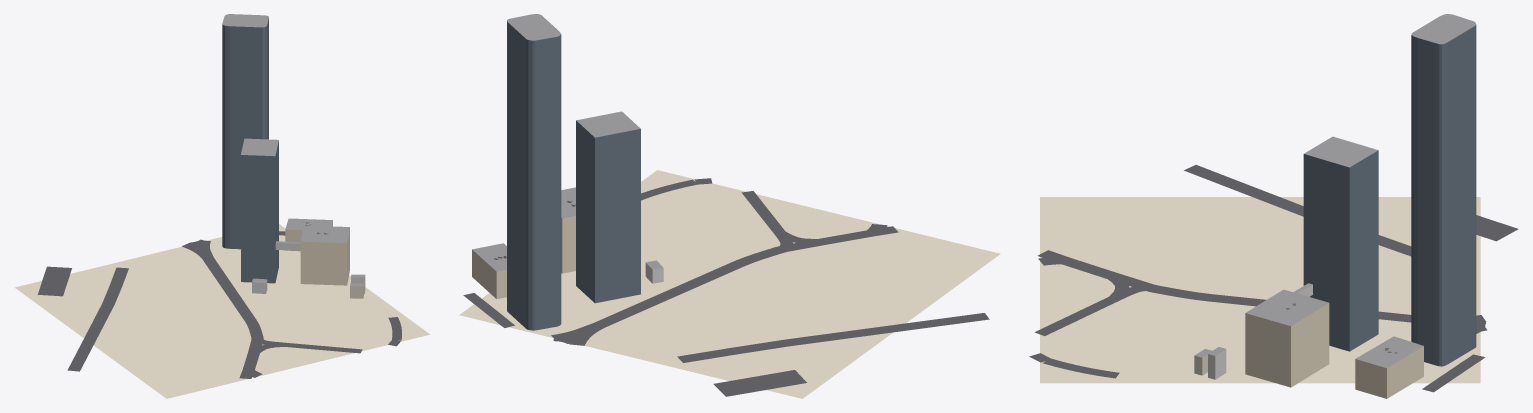
File: tile_-5_1_far.glb
3 renders of one model, left to right at view 1: azimuth 30°, elevation 25°; view 2: azimuth 150°, elevation 25°; view 3: azimuth 270°, elevation 25°, orthographic. The views are drawn at different scales.
Visible parts, largest first — view 1: nature_ground, buildings_glass_dark, roads_asphalt, buildings_roof, buildings_sandstone, buildings_concrete_light; view 2: nature_ground, buildings_glass_dark, roads_asphalt, buildings_roof, buildings_sandstone; view 3: nature_ground, buildings_glass_dark, buildings_sandstone, roads_asphalt, buildings_roof, buildings_concrete_light.
Boxes of the visible parts, x1,y1,x2,y2 form: nature_ground: [15, 224, 429, 398]; buildings_glass_dark: [222, 18, 278, 283]; roads_asphalt: [37, 231, 401, 378]; buildings_roof: [222, 14, 364, 286]; buildings_sandstone: [285, 221, 349, 285]; buildings_concrete_light: [252, 243, 365, 293]; nature_ground: [459, 170, 1000, 398]; buildings_glass_dark: [507, 21, 640, 330]; roads_asphalt: [463, 178, 989, 396]; buildings_roof: [472, 14, 662, 271]; buildings_sandstone: [472, 216, 575, 298]; nature_ground: [1040, 197, 1480, 383]; buildings_glass_dark: [1303, 25, 1476, 366]; buildings_sandstone: [1245, 303, 1423, 398]; roads_asphalt: [1029, 165, 1518, 392]; buildings_roof: [1194, 14, 1475, 368]; buildings_concrete_light: [1208, 285, 1312, 379].
Size of the model in its own units: 314 by 202 by 278.
